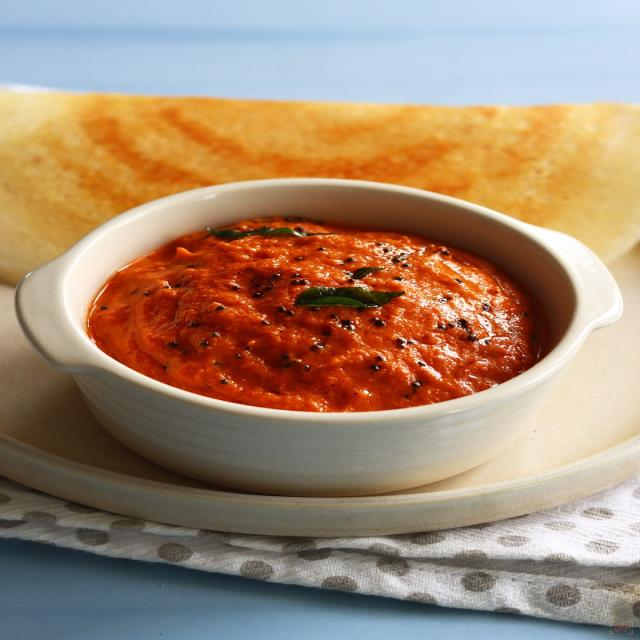kaara chutney: (32, 169, 552, 433)
